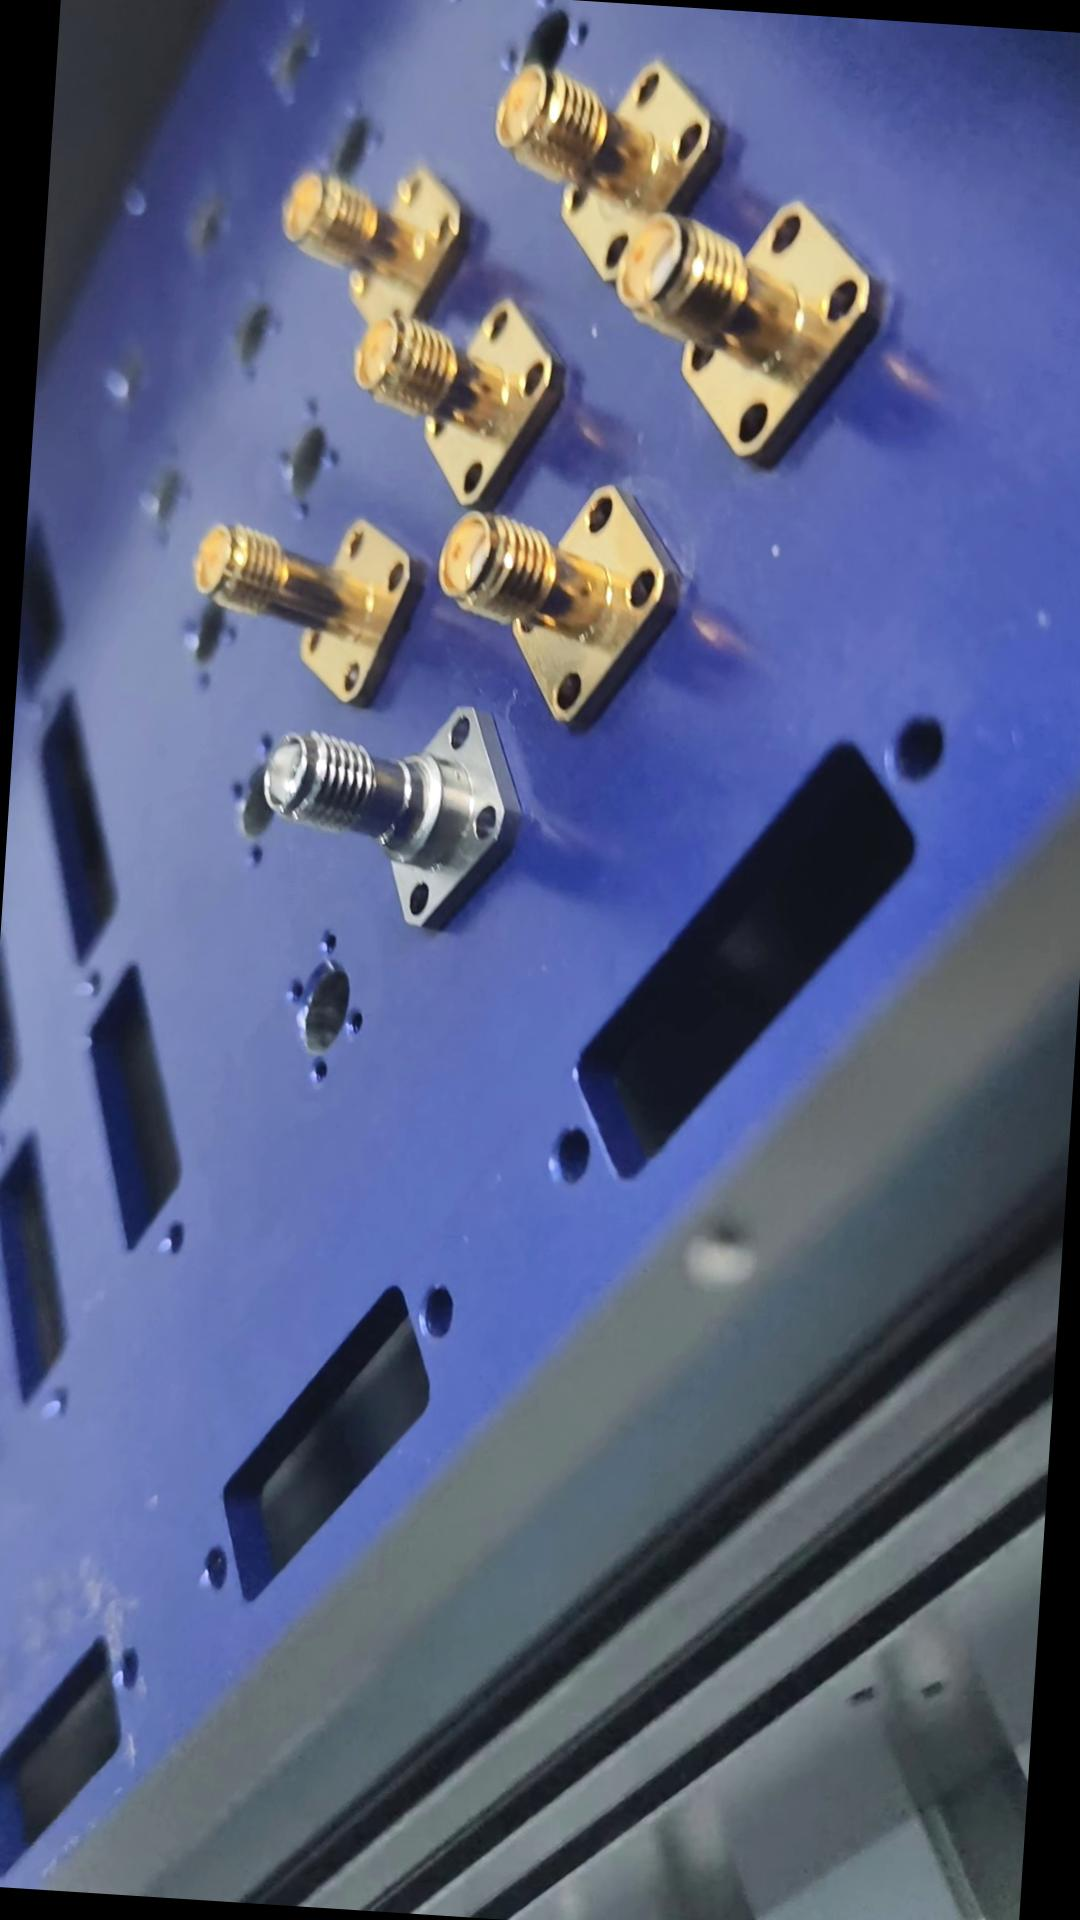SMA: (601, 187, 874, 469), (429, 450, 680, 733), (253, 675, 526, 936), (338, 266, 562, 521), (178, 496, 421, 715)
